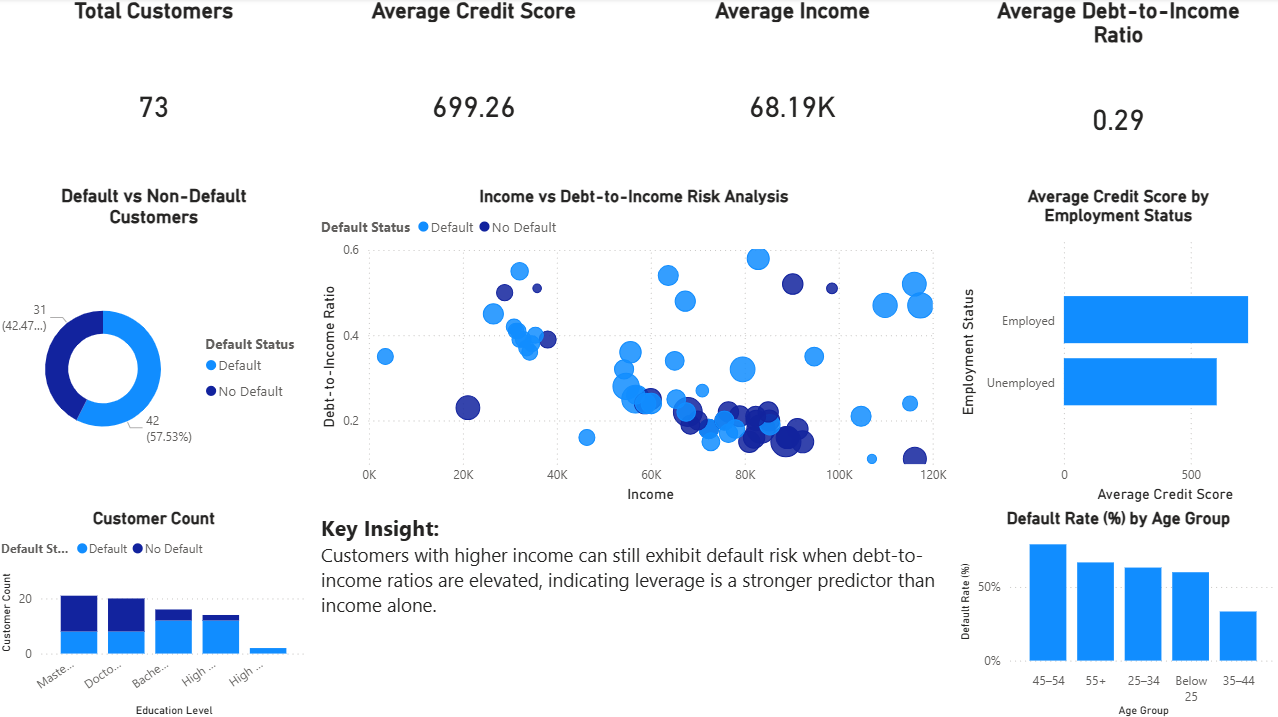

What the dashboard file says about the page in this screenshot:
{"tool":"powerbi","page":{"name":"Page 1","canvas":[1280,720],"ordinal":0},"visuals":[{"type":"card","title":"Total Customers","fields":{"Values":["CountNonNull(Risk Behaviour Features.Age)"]},"box":[0,0,314.2,186.6],"z":0},{"type":"card","title":"Average Credit Score","fields":{"Values":["Avg(Risk Behaviour Features.Credit Score)"]},"box":[318,0,314.2,186.6],"z":1000},{"type":"card","title":"Average Income","fields":{"Values":["Avg(Risk Behaviour Features.Income)"]},"box":[636.1,0,314.2,186.6],"z":2000},{"type":"card","title":"Average Debt-to-Income Ratio","fields":{"Values":["Avg(Risk Behaviour Features.Debt-to-Income Ratio)"]},"box":[954.1,0,325.9,186.6],"z":3000},{"type":"donutChart","title":"Default vs Non-Default Customers","fields":{"Category":["Risk Behaviour Features.Default Status"],"Y":["CountNonNull(Risk Behaviour Features.Age)"]},"box":[0,187.1,314.3,320],"z":4000},{"type":"scatterChart","title":"Income vs Debt-to-Income Risk Analysis","fields":{"X":["Risk Behaviour Features.Income"],"Y":["Risk Behaviour Features.Debt-to-Income Ratio"],"Size":["Sum(Risk Behaviour Features.Assets Value)"],"Series":["Risk Behaviour Features.Default Status"]},"box":[317.9,187.1,632.9,320],"z":5000},{"type":"clusteredBarChart","title":"Average Credit Score by Employment Status","fields":{"Category":["Risk Behaviour Features.Employment Status"],"Y":["Avg(Risk Behaviour Features.Credit Score)"]},"box":[954.3,187.1,325.7,320],"z":6000},{"type":"columnChart","title":"Customer Count","fields":{"Category":["Risk Behaviour Features.Education Level"],"Series":["Risk Behaviour Features.Default Status"],"Y":["CountNonNull(Risk Behaviour Features.Age)"]},"box":[0,507.1,314.3,212.9],"z":7000},{"type":"textbox","box":[317.9,507.1,632.9,212.9],"z":8000},{"type":"clusteredColumnChart","fields":{"Category":["Risk Behaviour Features.Age Group"],"Y":["Risk Behaviour Features.Default Rate (%)"]},"box":[954.3,507.1,325.7,212.9],"z":9000}]}

Visuals, with their boxes in screenshot pixels (x1, y1, x2, y2), scaled from the page's 1280x720 canvas onto the 1278x717 screenshot:
"Total Customers" card: box=[0, 0, 314, 186]
"Average Credit Score" card: box=[318, 0, 631, 186]
"Average Income" card: box=[635, 0, 949, 186]
"Average Debt-to-Income Ratio" card: box=[953, 0, 1277, 186]
"Default vs Non-Default Customers" donutChart: box=[0, 186, 314, 505]
"Income vs Debt-to-Income Risk Analysis" scatterChart: box=[317, 186, 949, 505]
"Average Credit Score by Employment Status" clusteredBarChart: box=[953, 186, 1277, 505]
"Customer Count" columnChart: box=[0, 505, 314, 716]
textbox: box=[317, 505, 949, 716]
clusteredColumnChart - Risk Behaviour Features.Age Group x Risk Behaviour Features.Default Rate (%): box=[953, 505, 1277, 716]
